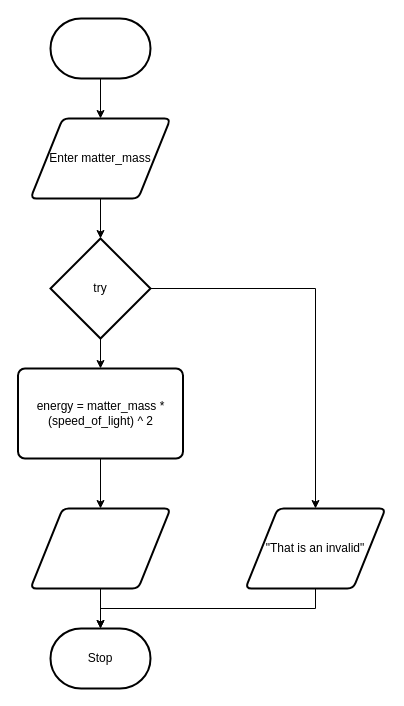
The diagram is 404 pixels wide and 706 high, and some of its shapes have lost their labels. The shapes that lost their labels are listed below. From the top down, each one's box as (x1, y1, x2, y2) in pixels, then its label:
(49, 17, 151, 79): Start
(29, 507, 171, 589): Show display
